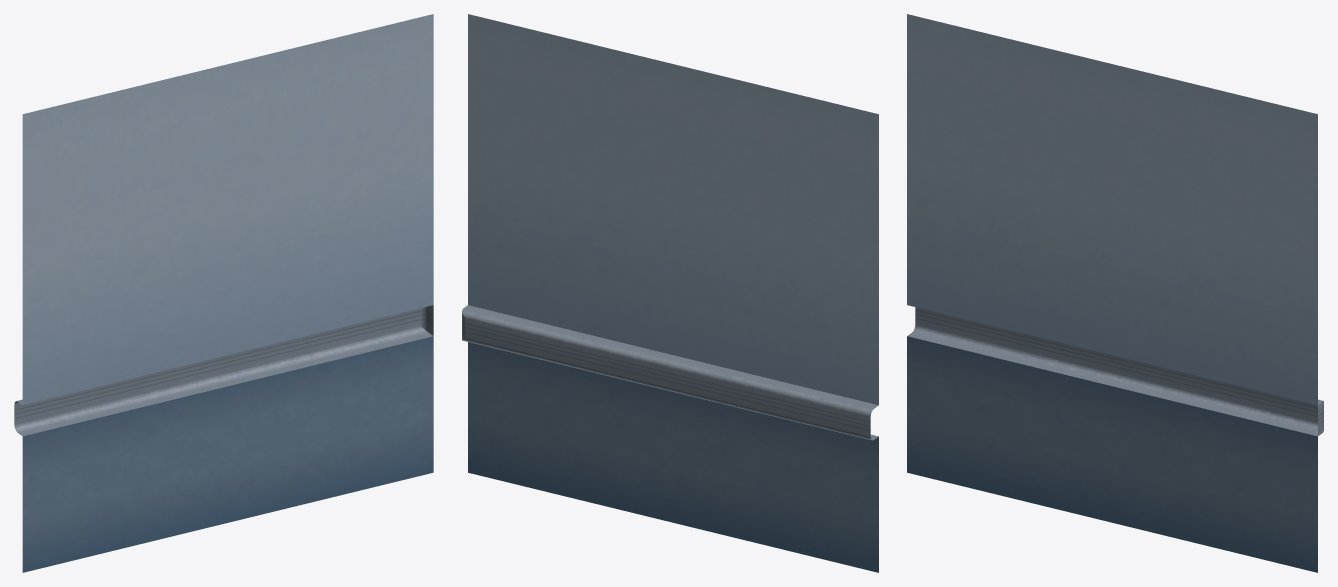
File: Lvl2_Wall_EndLeft.fbx
The picture shows the model from 3 angles, left to right: view 1: azimuth 30°, elevation 25°; view 2: azimuth 150°, elevation 25°; view 3: azimuth 330°, elevation 25°; orthographic projection.
Parts seen in each view (by area): view 1: Lvl2_Wall_EndLeft; view 2: Lvl2_Wall_EndLeft; view 3: Lvl2_Wall_EndLeft.
Part boxes in pixels (box(x1,y1,x2,y2)): Lvl2_Wall_EndLeft: box(14, 14, 433, 572); Lvl2_Wall_EndLeft: box(462, 14, 878, 572); Lvl2_Wall_EndLeft: box(907, 14, 1323, 572).
Size of the model in its own units: 375 by 400 by 13.01.
1 material, 1 textured.
